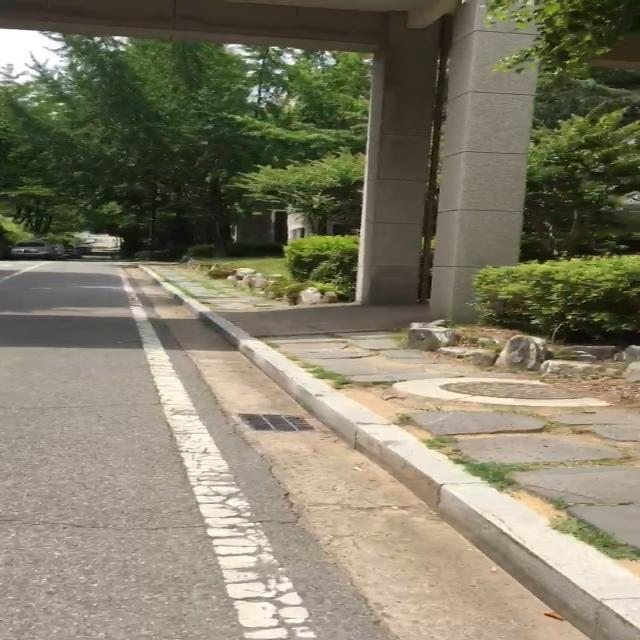obstacle: (8, 242, 81, 263)
road: (0, 262, 590, 640)
sidewalk: (265, 339, 640, 640), (150, 264, 279, 309)
